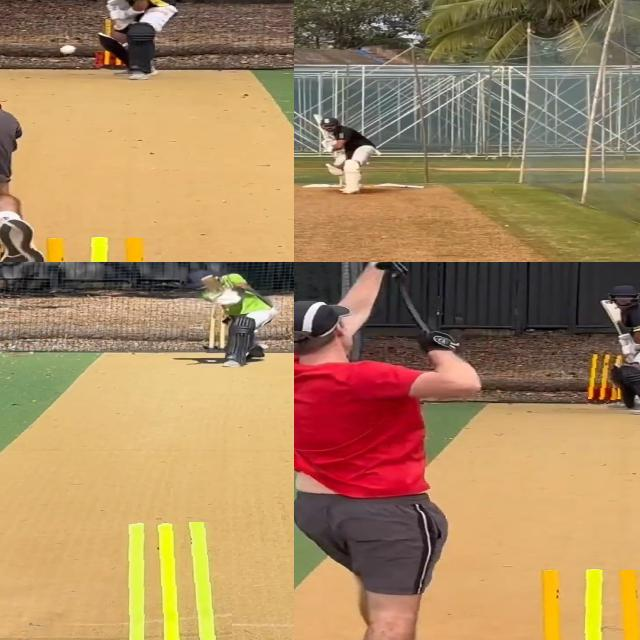Cricket ball: (60, 43, 79, 55)
Stumps: (106, 521, 232, 640), (521, 569, 640, 640), (588, 353, 622, 405)
